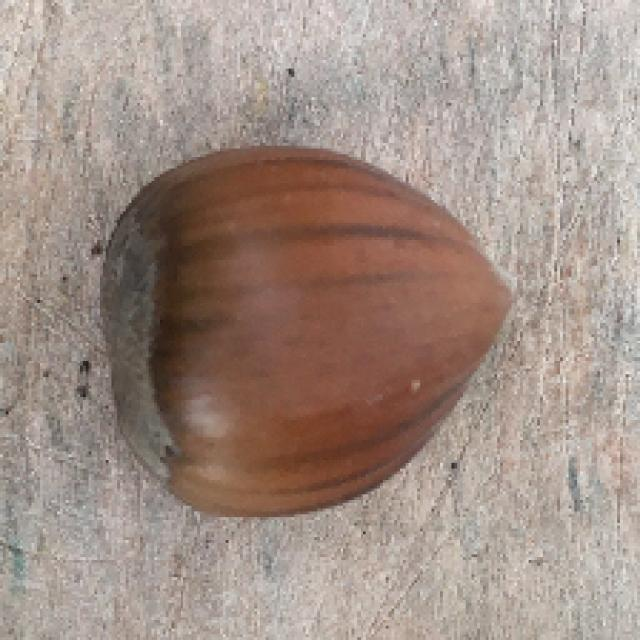DamagedHazelnut: (99, 151, 512, 526)
